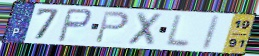7: (33, 6, 63, 41)
I: (199, 14, 223, 52)
L: (162, 14, 192, 49)
P: (56, 7, 94, 44), (93, 10, 131, 45)
X: (125, 11, 165, 48)
